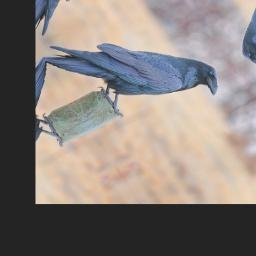Crow: (39, 0, 230, 150)
